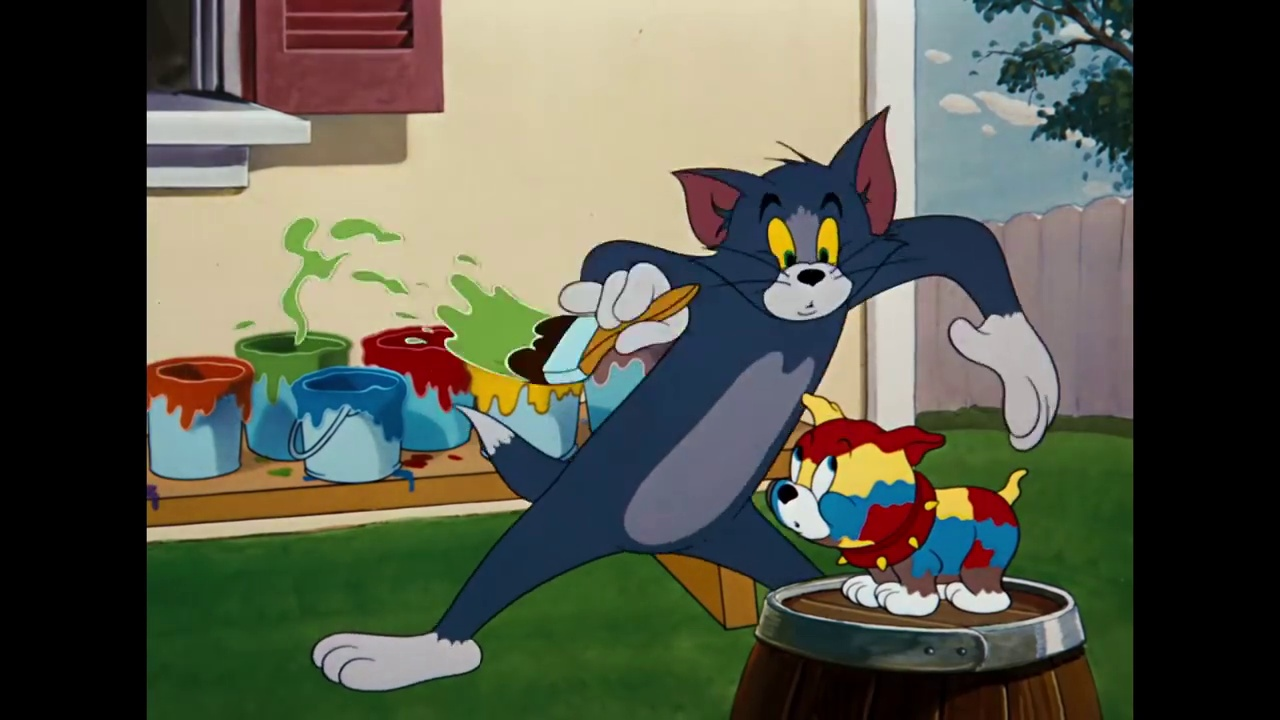tom: (668, 101, 911, 330)
